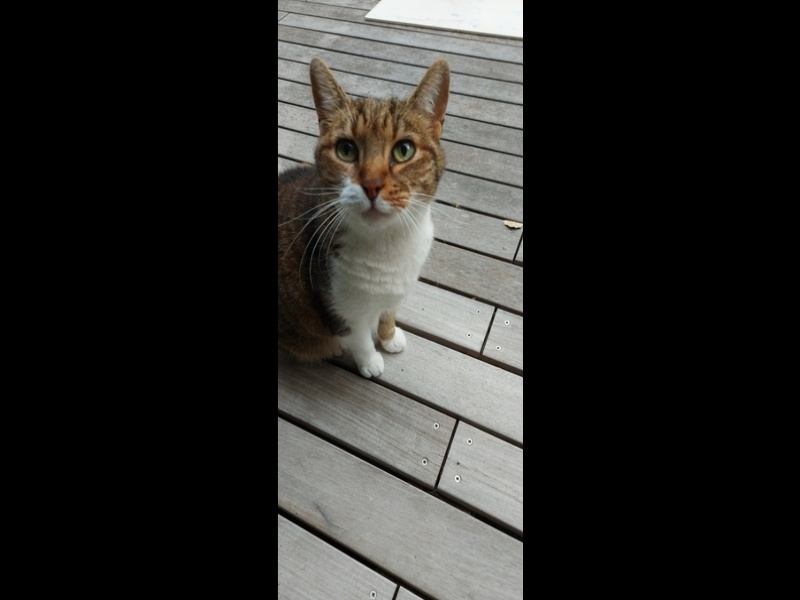cat: (275, 57, 455, 382)
